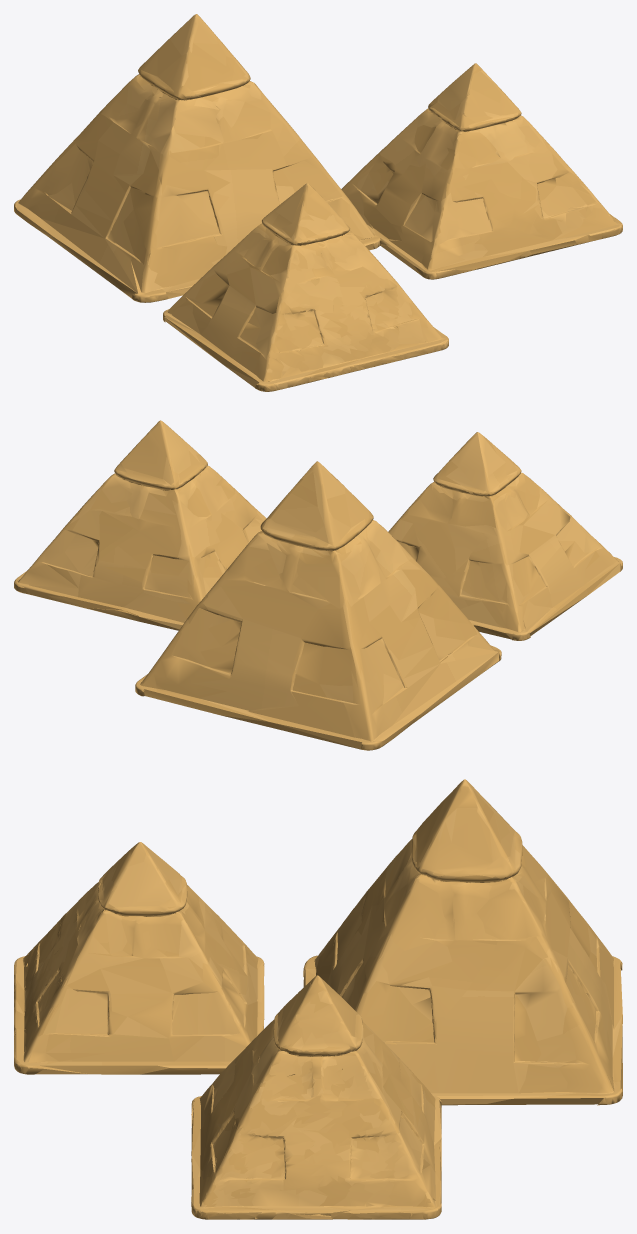
Rendered from giza.glb.
3 views of the same model, one above another, from view 1: azimuth 30°, elevation 25°; view 2: azimuth 150°, elevation 25°; view 3: azimuth 270°, elevation 25° (orthographic). The views are drawn at different scales.
Visible parts, largest first — view 1: output_unwrapped; view 2: output_unwrapped; view 3: output_unwrapped.
Part boxes in pixels (left/top/right/bottom): output_unwrapped: left=14, top=14, right=622, bottom=391; output_unwrapped: left=14, top=420, right=622, bottom=750; output_unwrapped: left=14, top=779, right=622, bottom=1219.
Size of the model in its own units: 1.9 by 0.881 by 1.9.
Materials: 1 (1 with a texture image).
